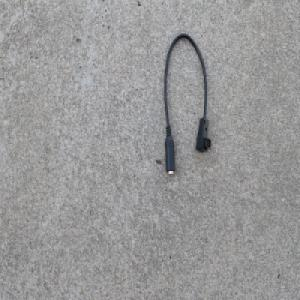Wire: (162, 31, 211, 178)
